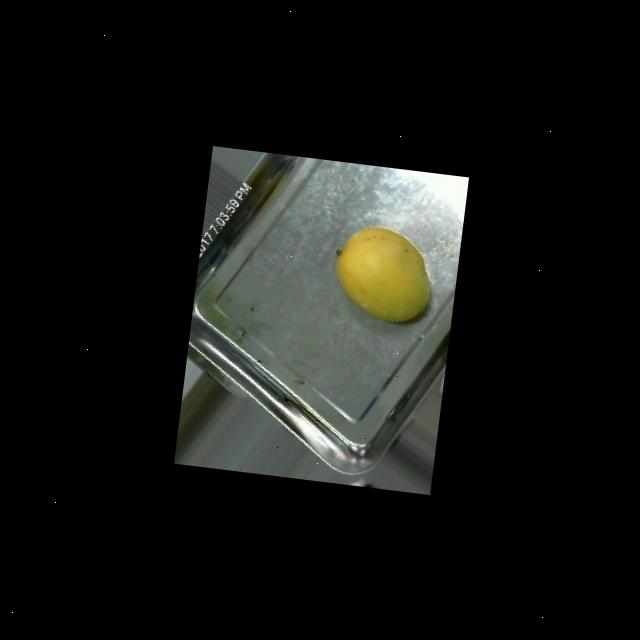Mango: (326, 220, 436, 326)
